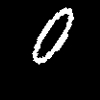chain: (32, 8, 73, 63)
